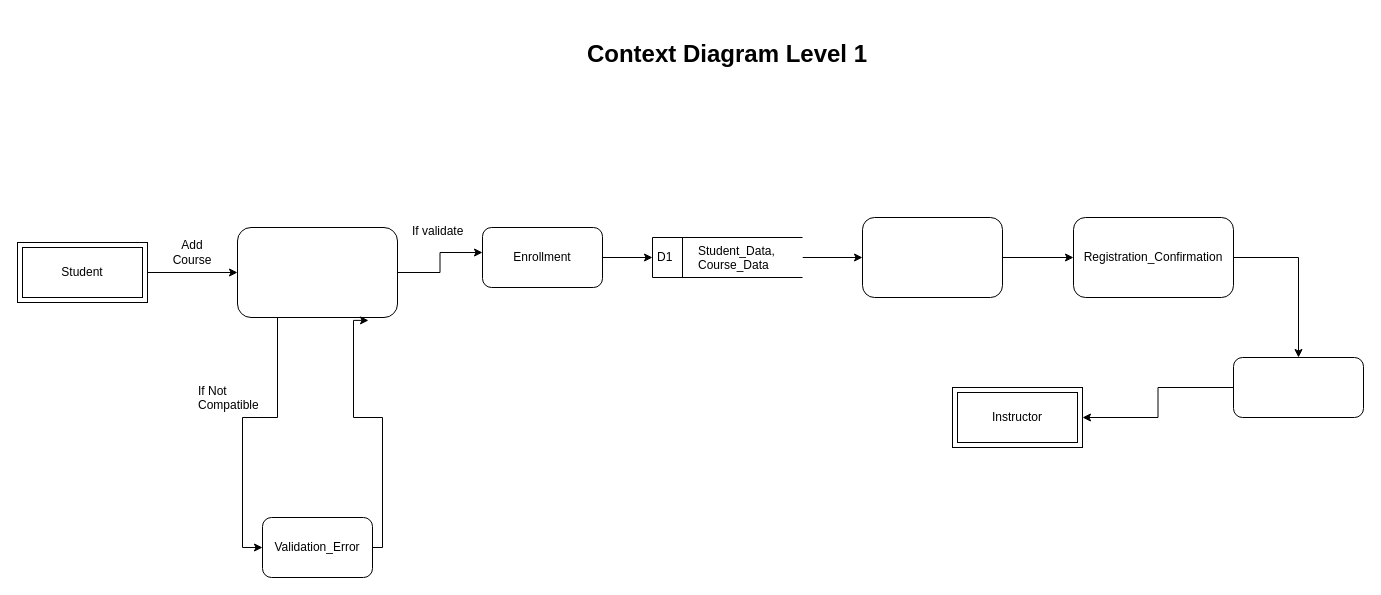
This 1381x595 diagram has some shape labels left out. The shapes that lost their labels are listed below. From the top down, each one's box as (x1, y1, x2, y2) in pixels, then its label:
(236, 226, 398, 318): Checking Prerequisites, Maximum Credit Hours, Available Seats
(862, 216, 1002, 298): Payment checkout
(1232, 356, 1364, 418): Management_Report
